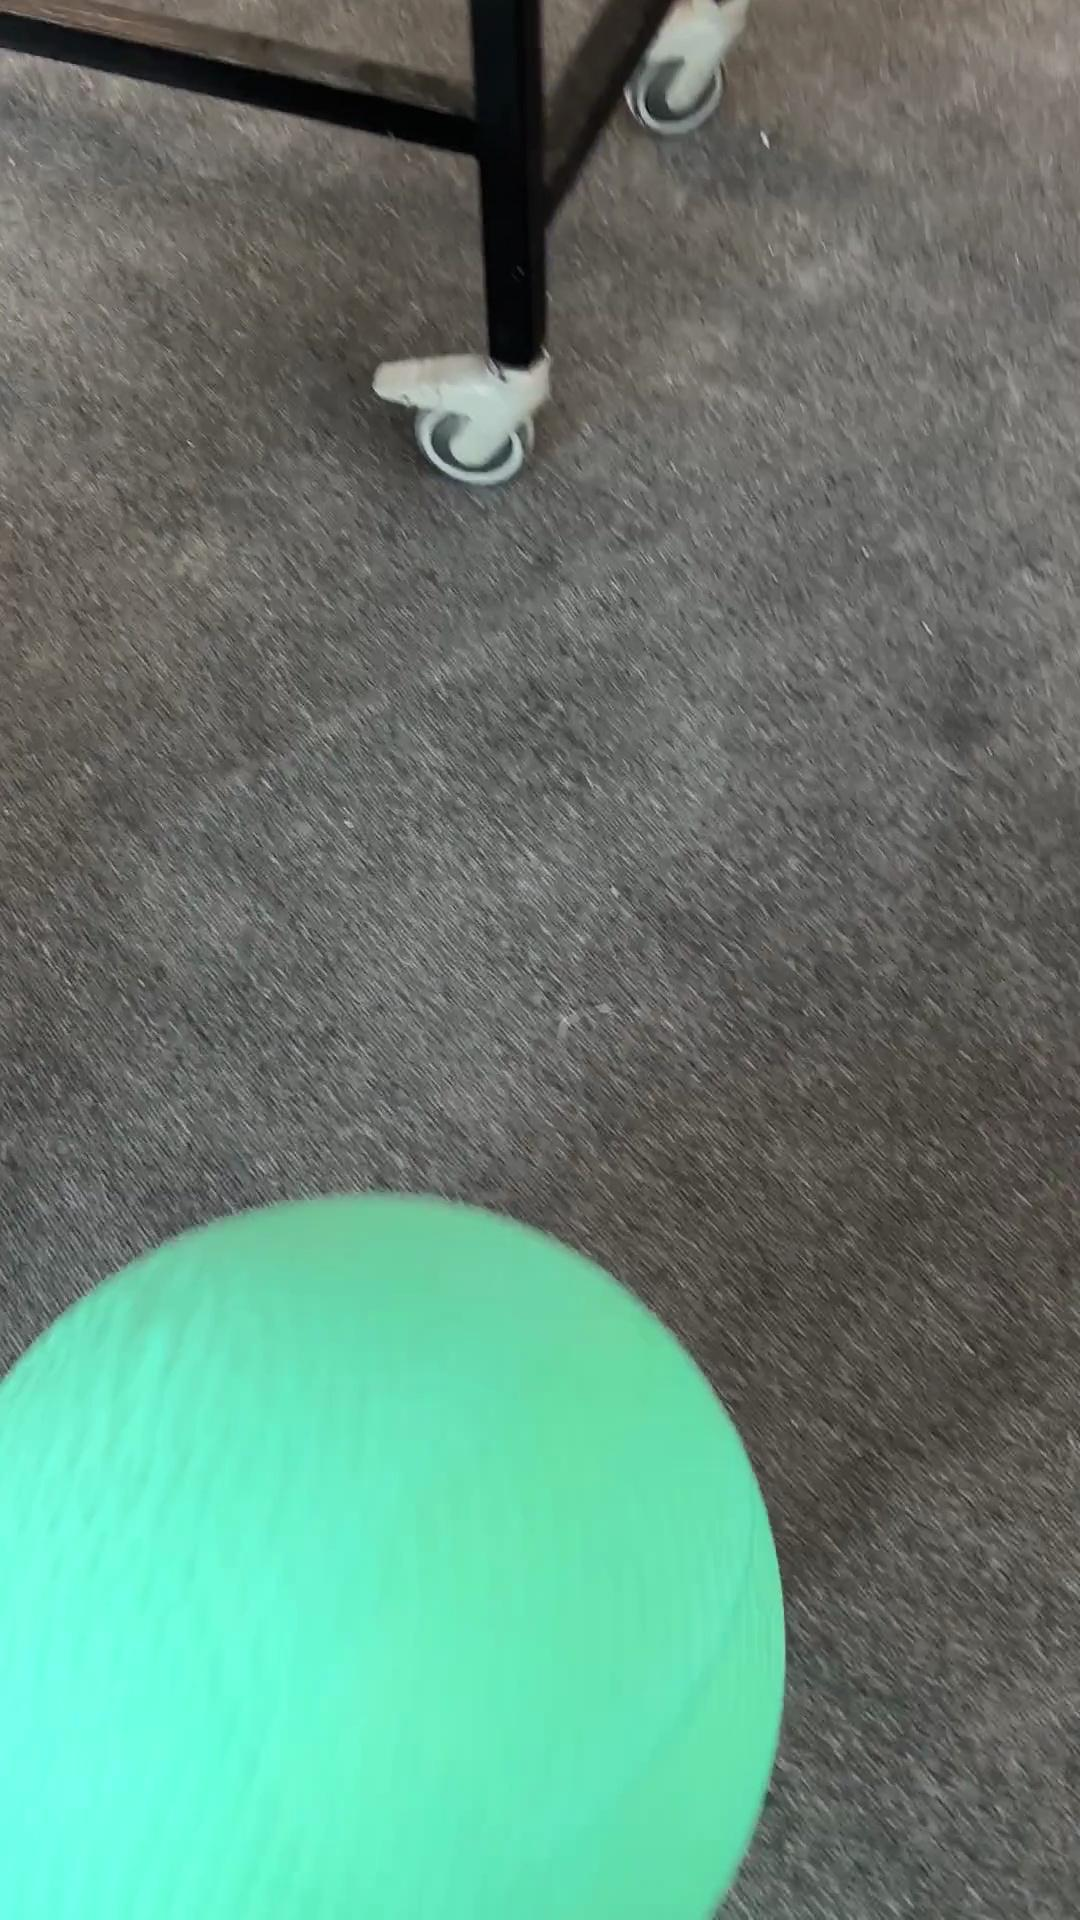ALGAE: (1, 1188, 789, 1916)
